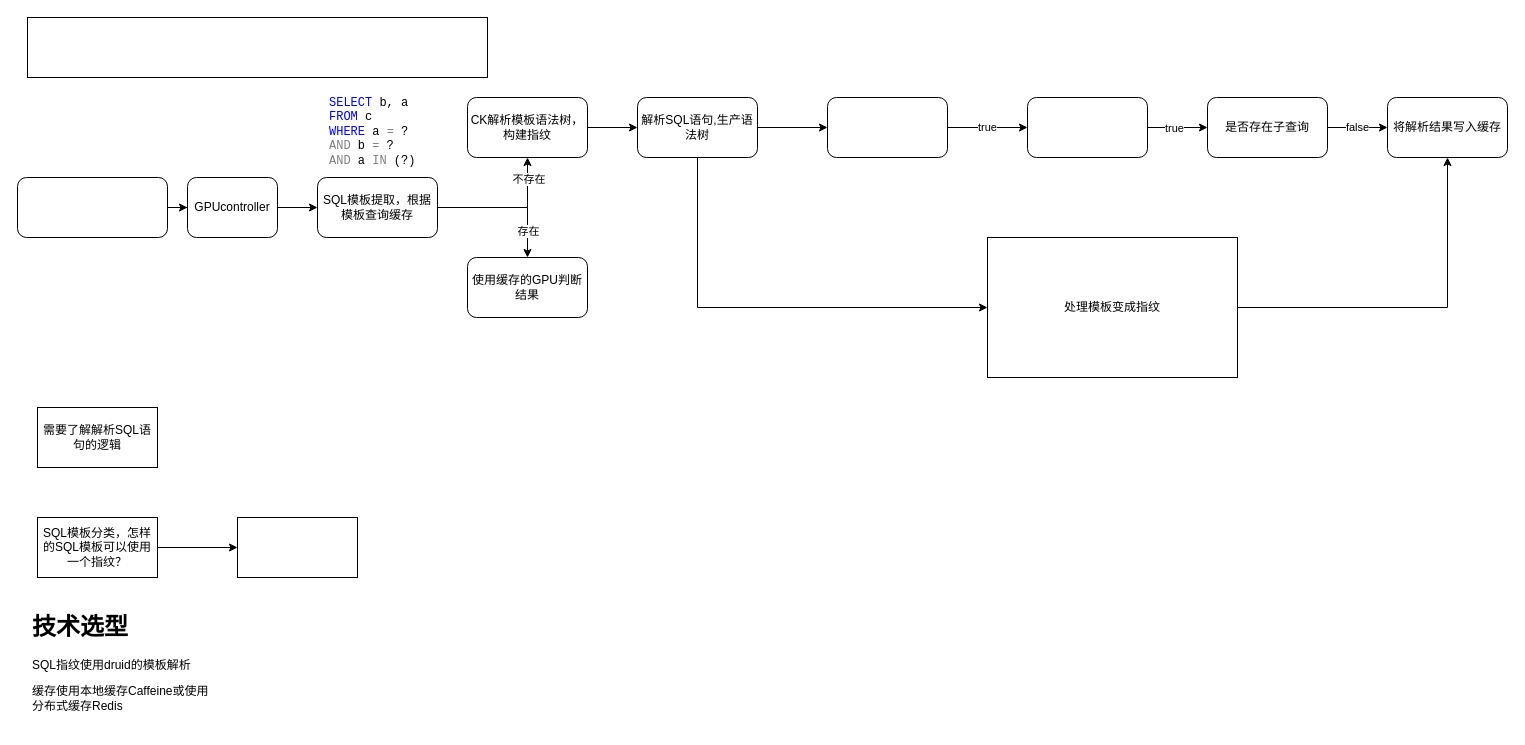
This 1525x745 diagram has some shape labels left out. Here are the shapes that lost their labels. From the top down, the centre of each, then its label:
At (x=257, y=47): "SQL指纹设计，使用druid的提取SQL模板，SQL模板可以判断是否是Select语句 减轻接口重复解析判断的压力".
At (x=887, y=127): "是否是Select语句".
At (x=1087, y=127): "是否包含去重算子".
At (x=92, y=207): "发起请求，传入SQL语句".
At (x=297, y=547): "都满足Select语句、去重算子、都不是子查询".
